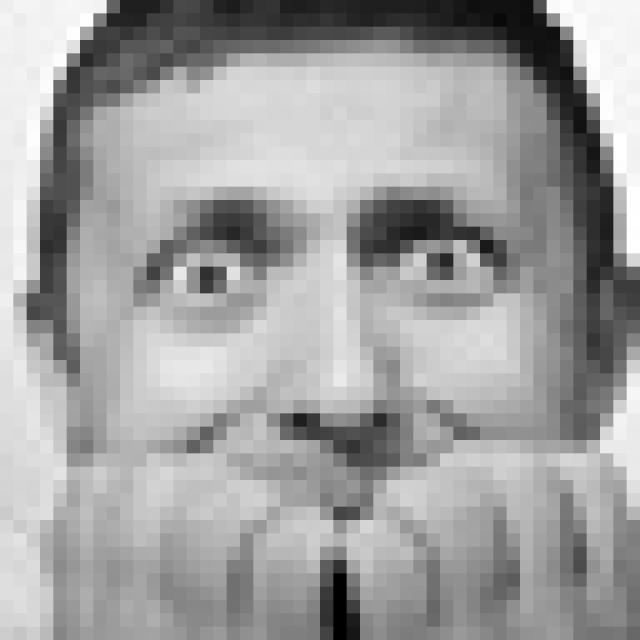fear: (116, 169, 543, 596)
